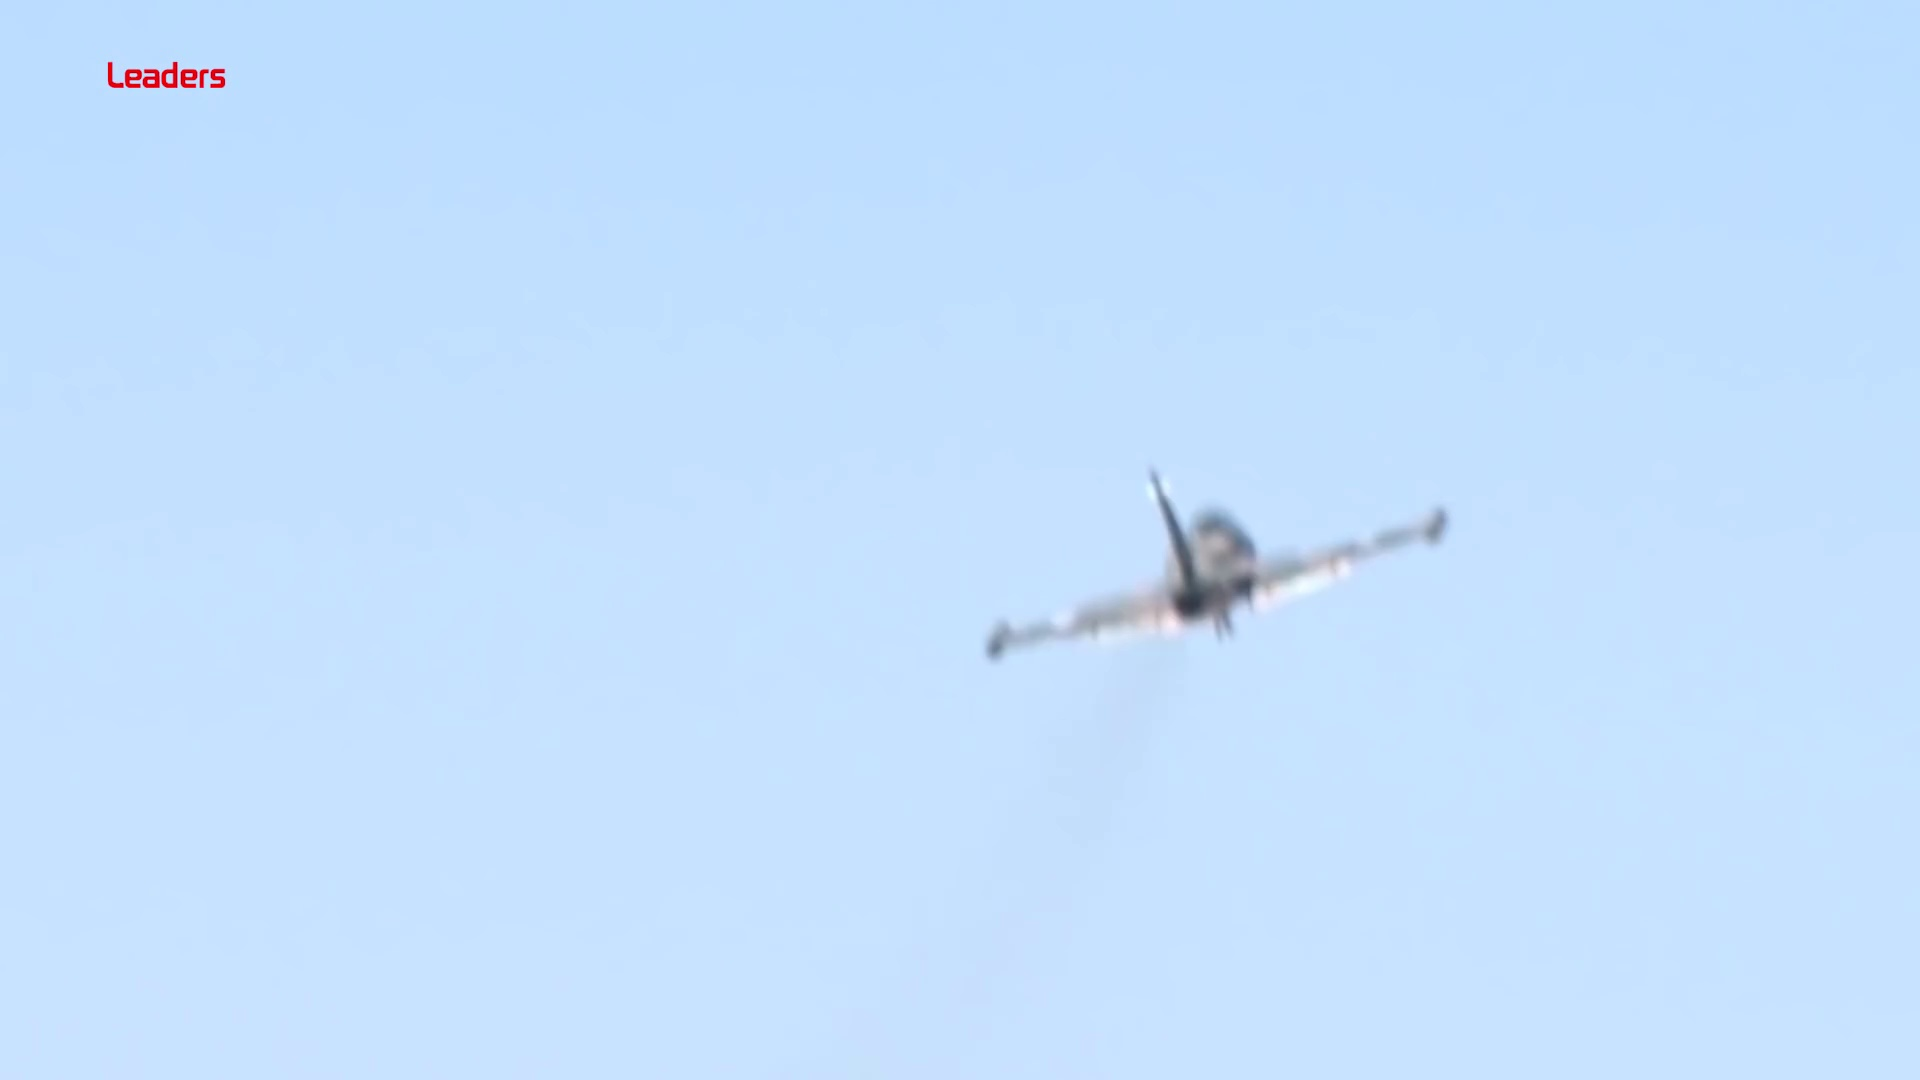Airplane: (978, 460, 1449, 665)
